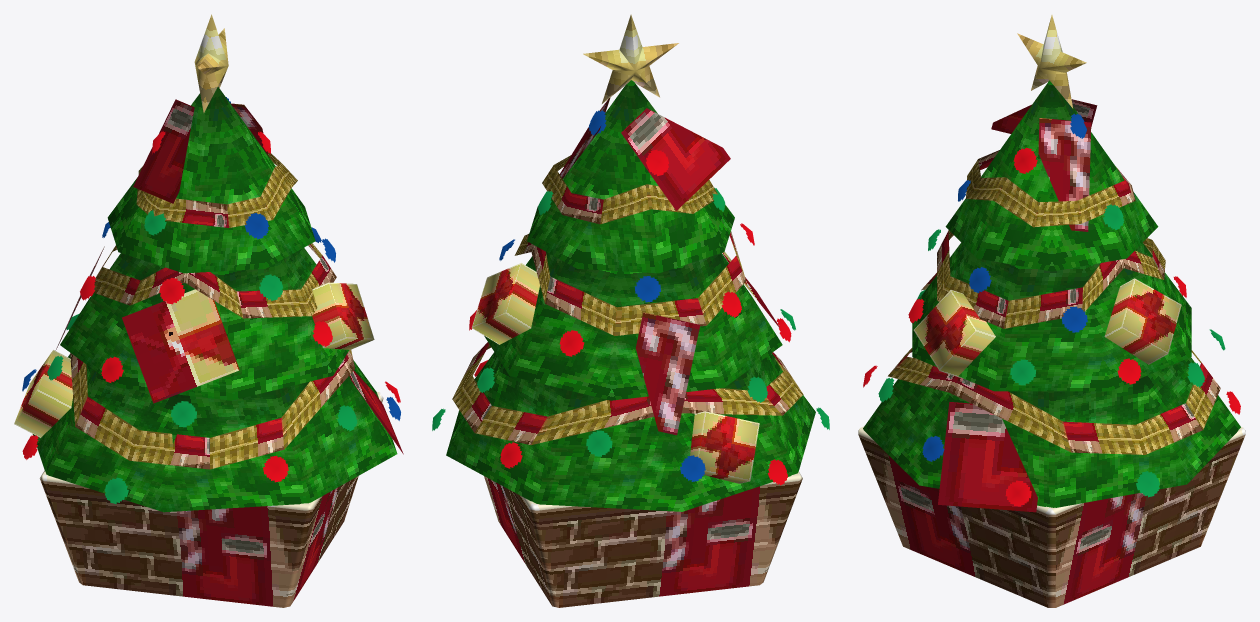
Rendered from int_oth_Xmas_L.dae.
The picture shows the model from 3 angles, left to right: view 1: azimuth 30°, elevation 25°; view 2: azimuth 150°, elevation 25°; view 3: azimuth 270°, elevation 25°; orthographic projection.
Parts seen in each view (by area): view 1: int_oth_Xmas_L; view 2: int_oth_Xmas_L; view 3: int_oth_Xmas_L.
Part boxes in pixels (bbox=[...]): int_oth_Xmas_L: bbox=[14, 14, 403, 607]; int_oth_Xmas_L: bbox=[432, 14, 829, 607]; int_oth_Xmas_L: bbox=[858, 15, 1245, 607].
Bounding box in the file's own units: 53.17 × 79.83 × 52.8.
Materials: 4 (4 with a texture image).
